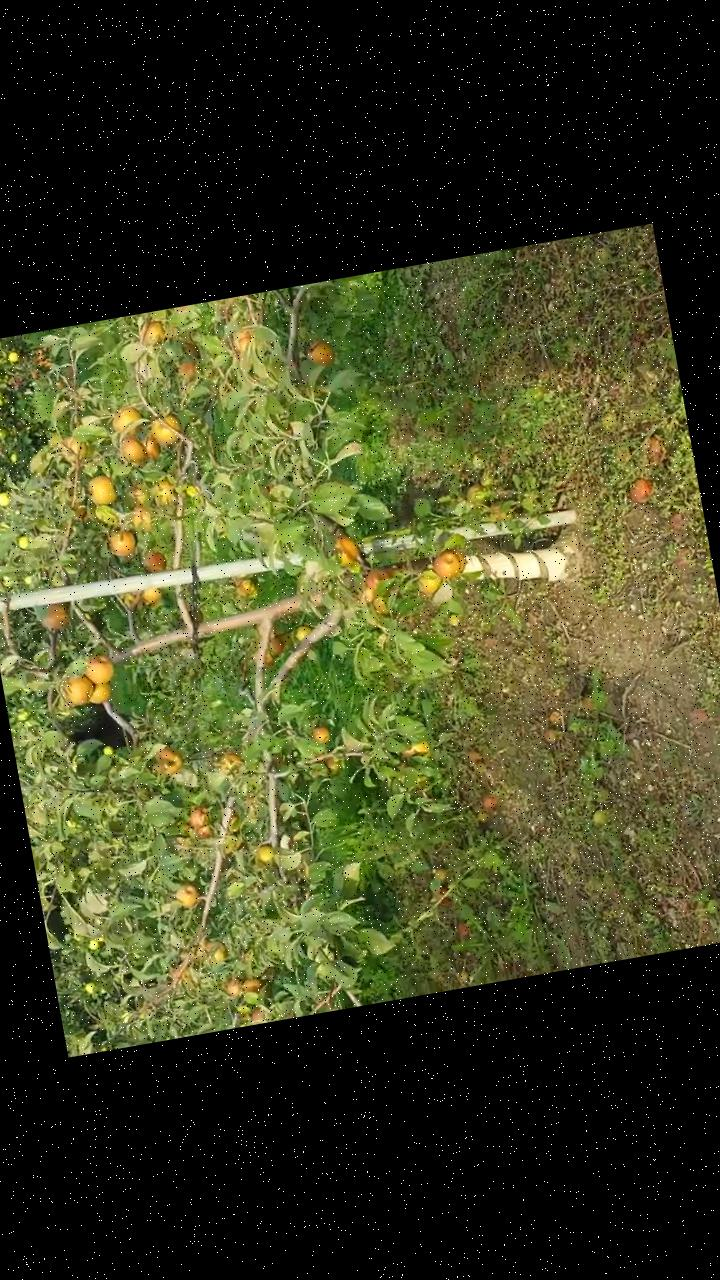Apple: (57, 672, 95, 706), (80, 652, 115, 688), (148, 411, 181, 448), (108, 406, 144, 437), (102, 528, 138, 558), (114, 435, 146, 468), (329, 534, 360, 568), (36, 604, 70, 634), (430, 549, 461, 581), (150, 746, 182, 776), (58, 436, 86, 468), (85, 475, 113, 507), (303, 338, 334, 366), (138, 320, 166, 348), (173, 881, 200, 910), (260, 636, 284, 668), (359, 566, 389, 590), (448, 546, 469, 580), (127, 503, 150, 533), (416, 571, 442, 597), (216, 751, 243, 774), (124, 482, 146, 510), (141, 550, 166, 574), (229, 327, 253, 352), (399, 741, 429, 761), (203, 940, 226, 966), (138, 586, 165, 608), (150, 482, 174, 506), (90, 682, 114, 705), (188, 805, 210, 829), (252, 844, 274, 868), (233, 578, 257, 600), (139, 438, 159, 463), (368, 592, 388, 616), (175, 360, 195, 382), (308, 724, 328, 746), (290, 624, 312, 644), (358, 584, 377, 606), (240, 977, 262, 995), (178, 341, 198, 360), (222, 978, 242, 996), (248, 1004, 265, 1024), (194, 824, 210, 842), (322, 755, 338, 772)
